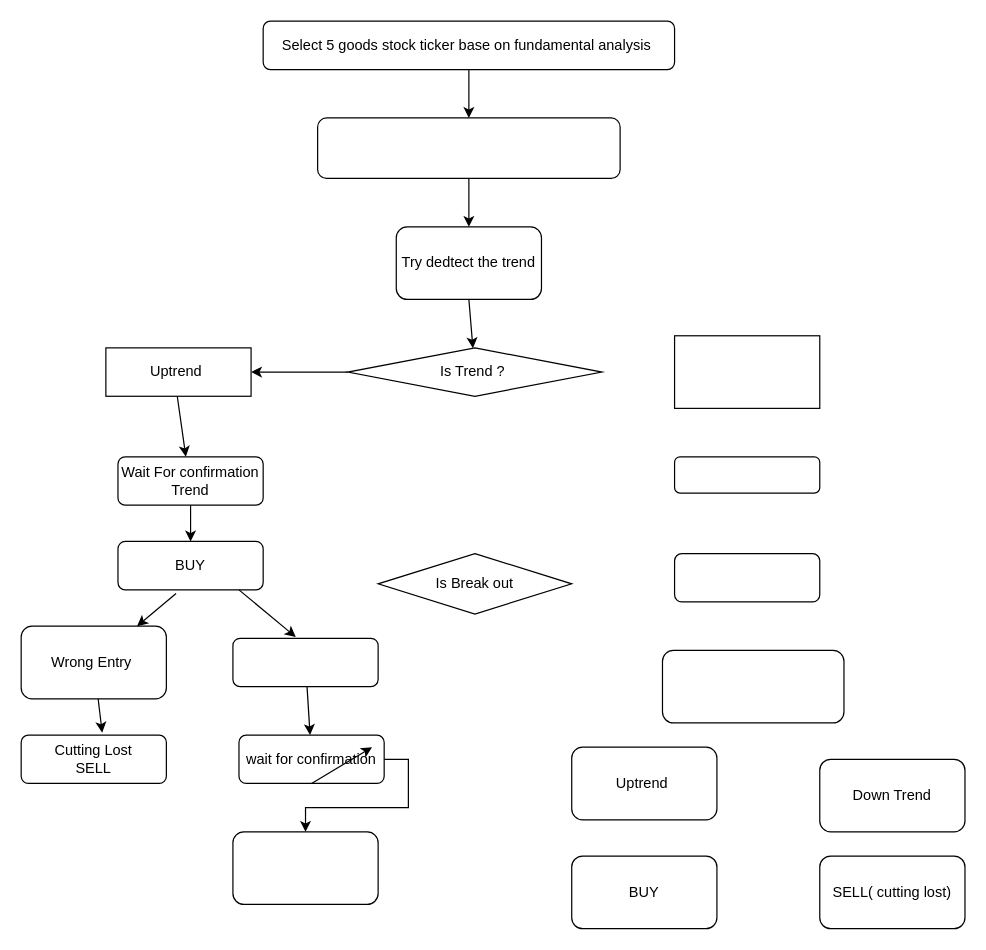
Image size: 986x950. Some labels were removed from this diagram. Here are the shapes that lost their labels. From the top down, the centre of each, then its label:
At pixel 468 147: "Get historical data Open, High, Low, Close, Volume of daily".
At pixel 746 371: "Tranding Range support".
At pixel 746 474: "HOLD".
At pixel 746 577: "wait for breakout".
At pixel 305 662: "Check trend revert signal".
At pixel 752 686: "Breakout confirmation".
At pixel 305 867: "SELL Make profit".
